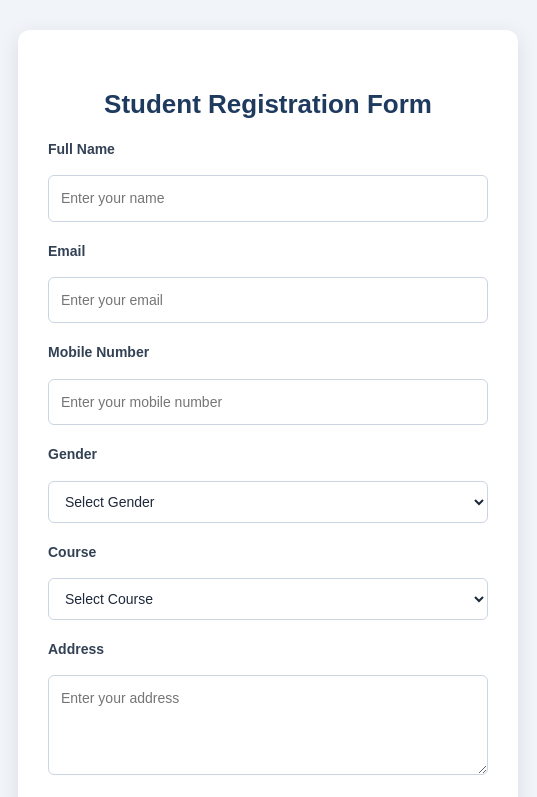
it: StudentForm Component › should register a student successfully with valid details
# Enter full name
In the field with placeholder "Enter your name": (268,198) x1=48 y1=175 x2=488 y2=222, type "Test Student"
# Enter email
In the field with placeholder "Enter your email": (268,300) x1=48 y1=277 x2=488 y2=323, type "teststudent@example.com"
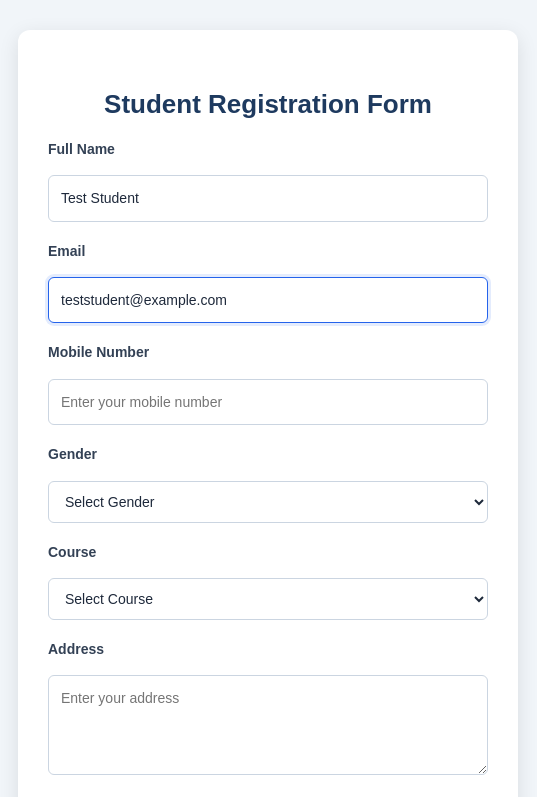
# Enter mobile number
In the field with placeholder "Enter your mobile number": (268,402) x1=48 y1=379 x2=488 y2=425, type "9876543210"
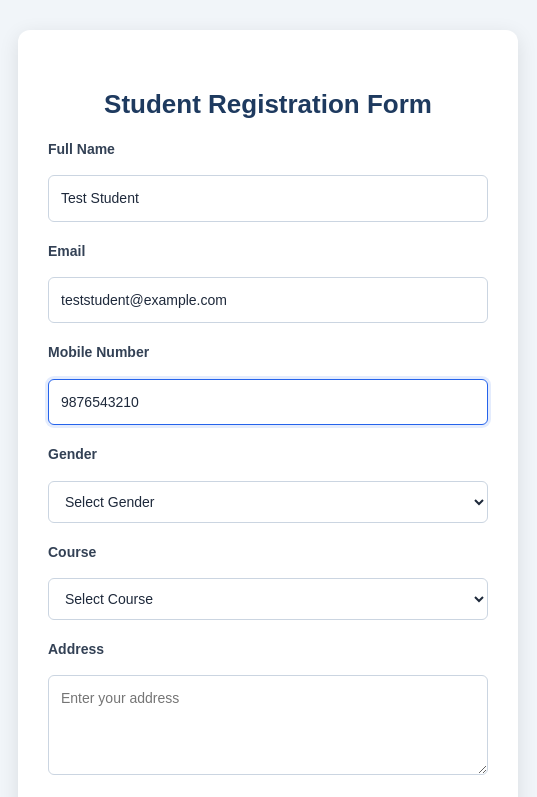
# Select gender
Select "Male" in the dropdown labelled "Gender": (268,502) x1=48 y1=480 x2=488 y2=522
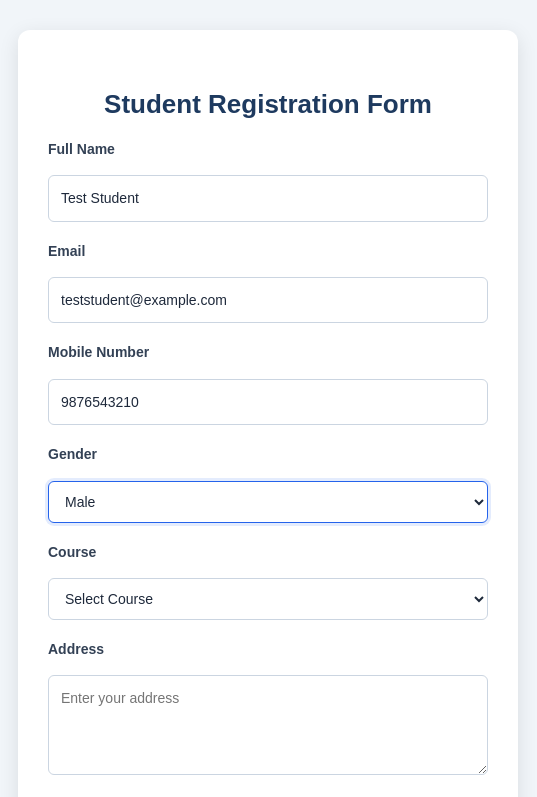
# Select course
Select "MERN Stack Development (MERN101)" in the dropdown labelled "Course": (268,599) x1=48 y1=578 x2=488 y2=620
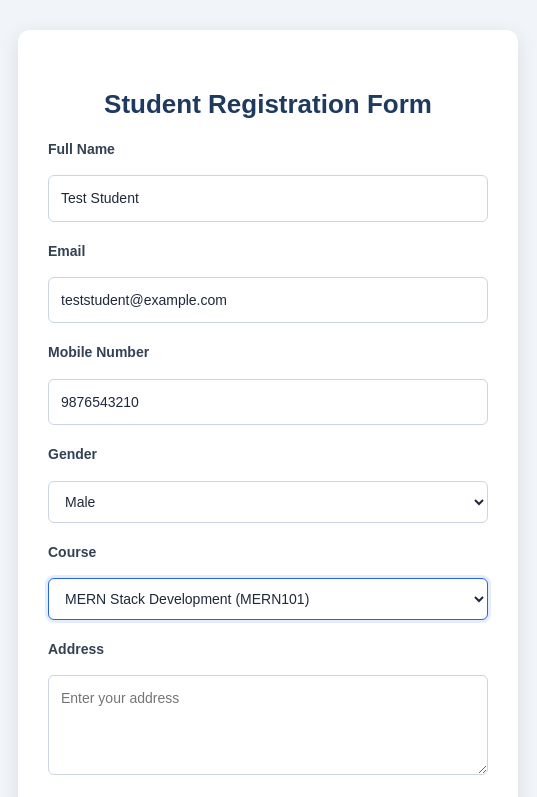
# Enter address
In the text box with placeholder "Enter your address": (268,725) x1=48 y1=675 x2=488 y2=775, type "Hyderabad Telangana"
(page scrolled)
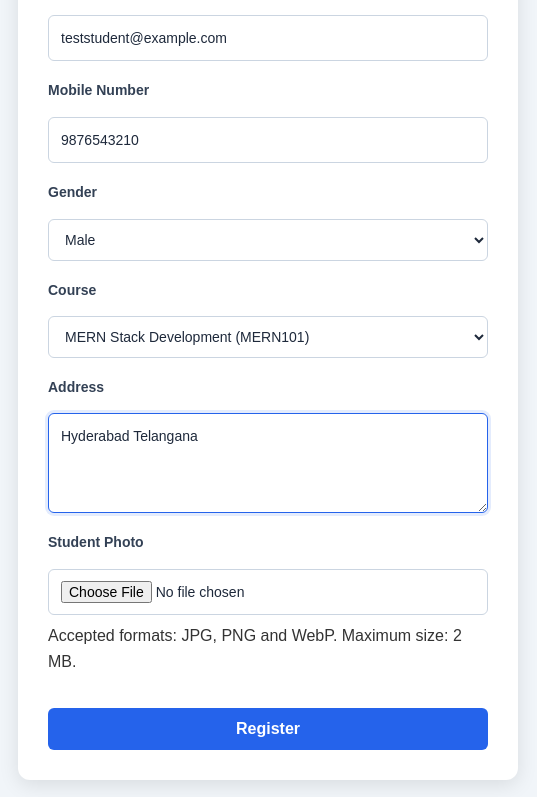
# Submit form
Click the button "Register": (268,729) x1=48 y1=708 x2=488 y2=750
(page scrolled)
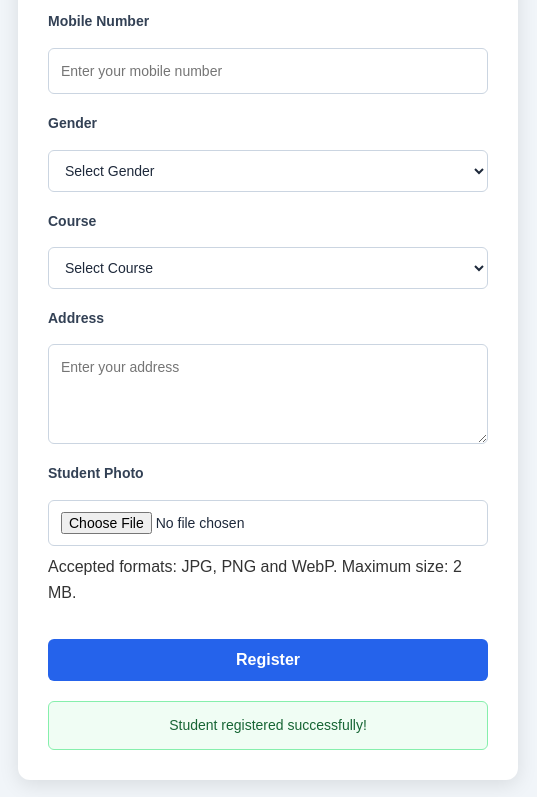
Result: the text "Student registered successfully!" is shown at x1=48 y1=701 x2=488 y2=750
